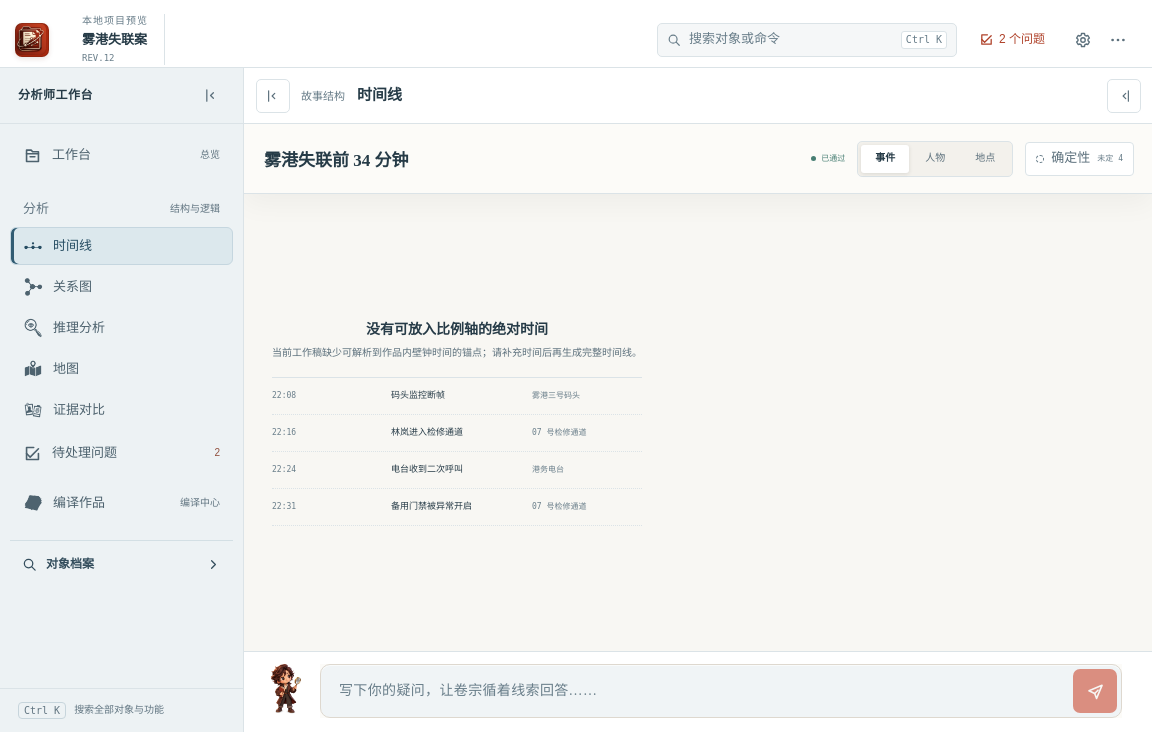
Test: analyst workbench › switches the evidence view between the matrix and validation issues
This screenshot has width=1164, height=732.
Click the tab "证据对比".
click(122, 410)  # box [10,391,233,429]
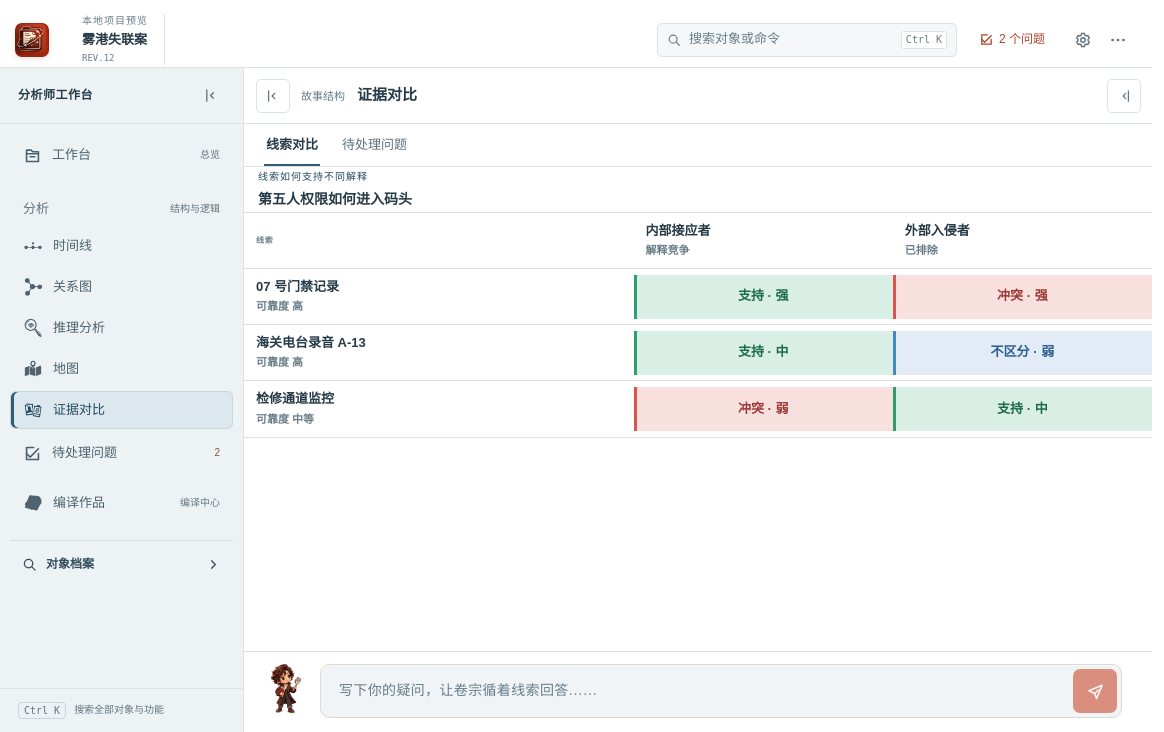
Expected: the heading "第五人权限如何进入码头" is shown, [258,189,412,209]
Click the tab "待处理问题".
click(374, 145)  # box [340,124,409,166]
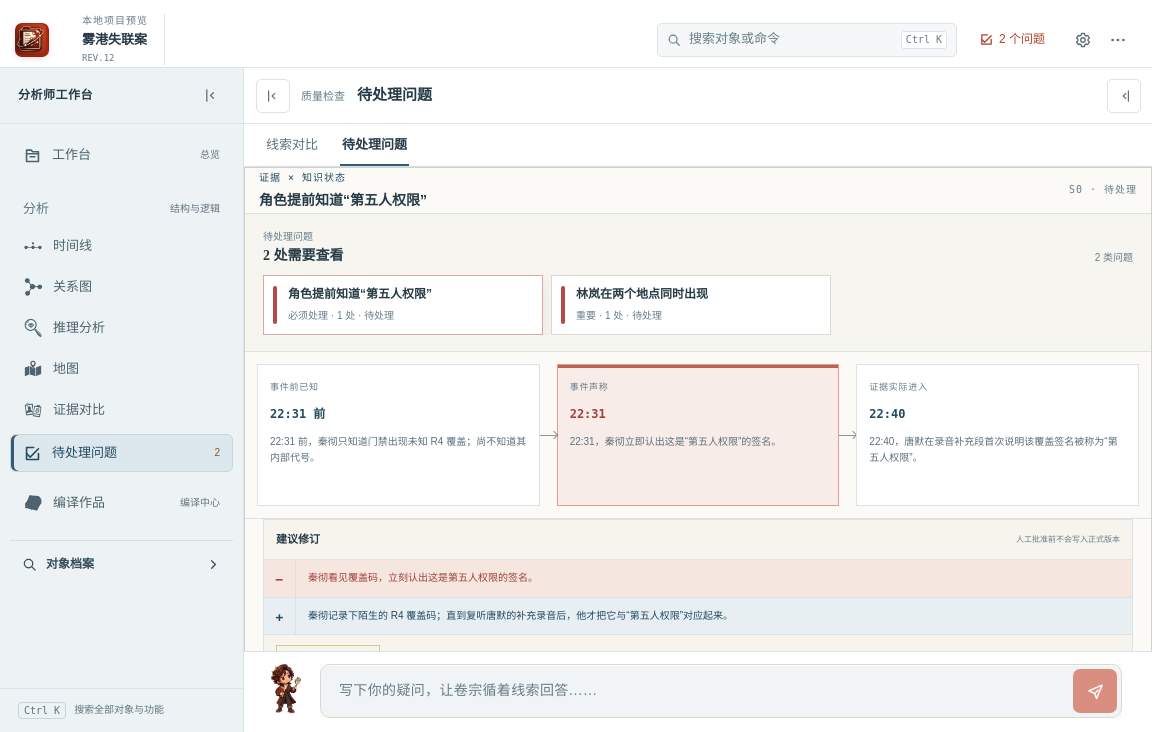
Expected: the text "事件前已知" is shown, [270,382,319,392]
Expected: the text "证据实际进入" is shown, [869,382,928,392]
Click the tab "线索对比".
click(292, 145)  # box [264,124,320,166]
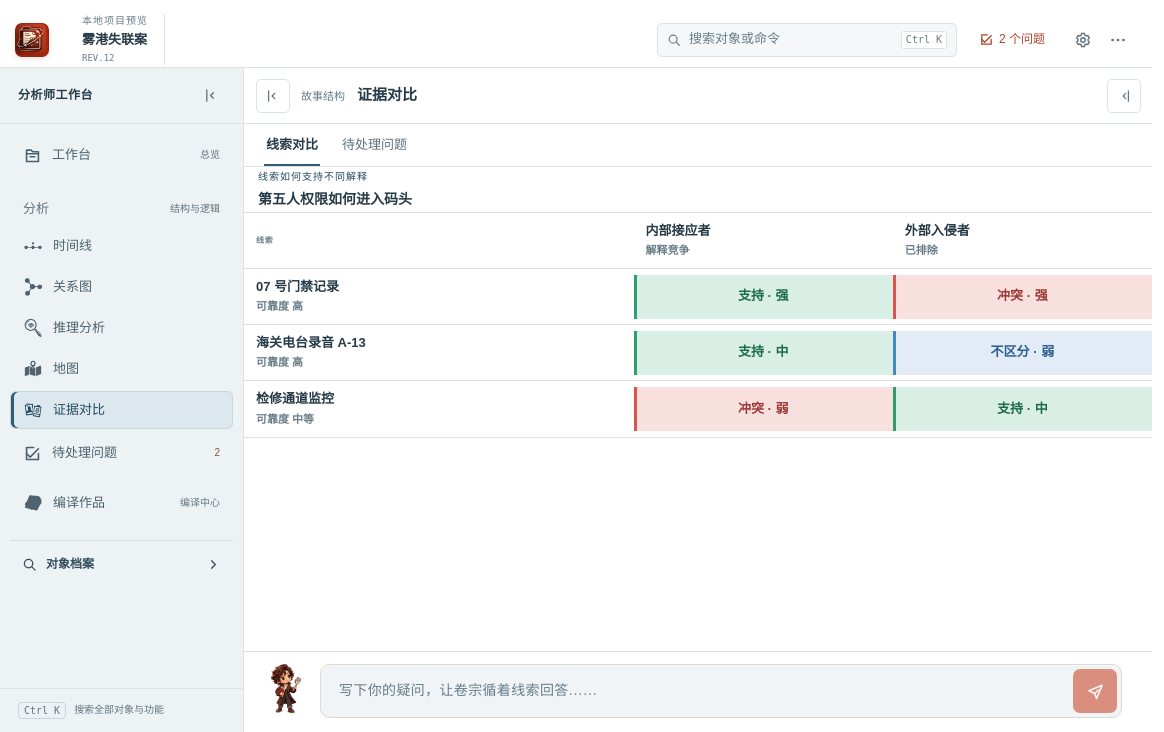
Expected: the heading "第五人权限如何进入码头" is shown, [258,189,412,209]
